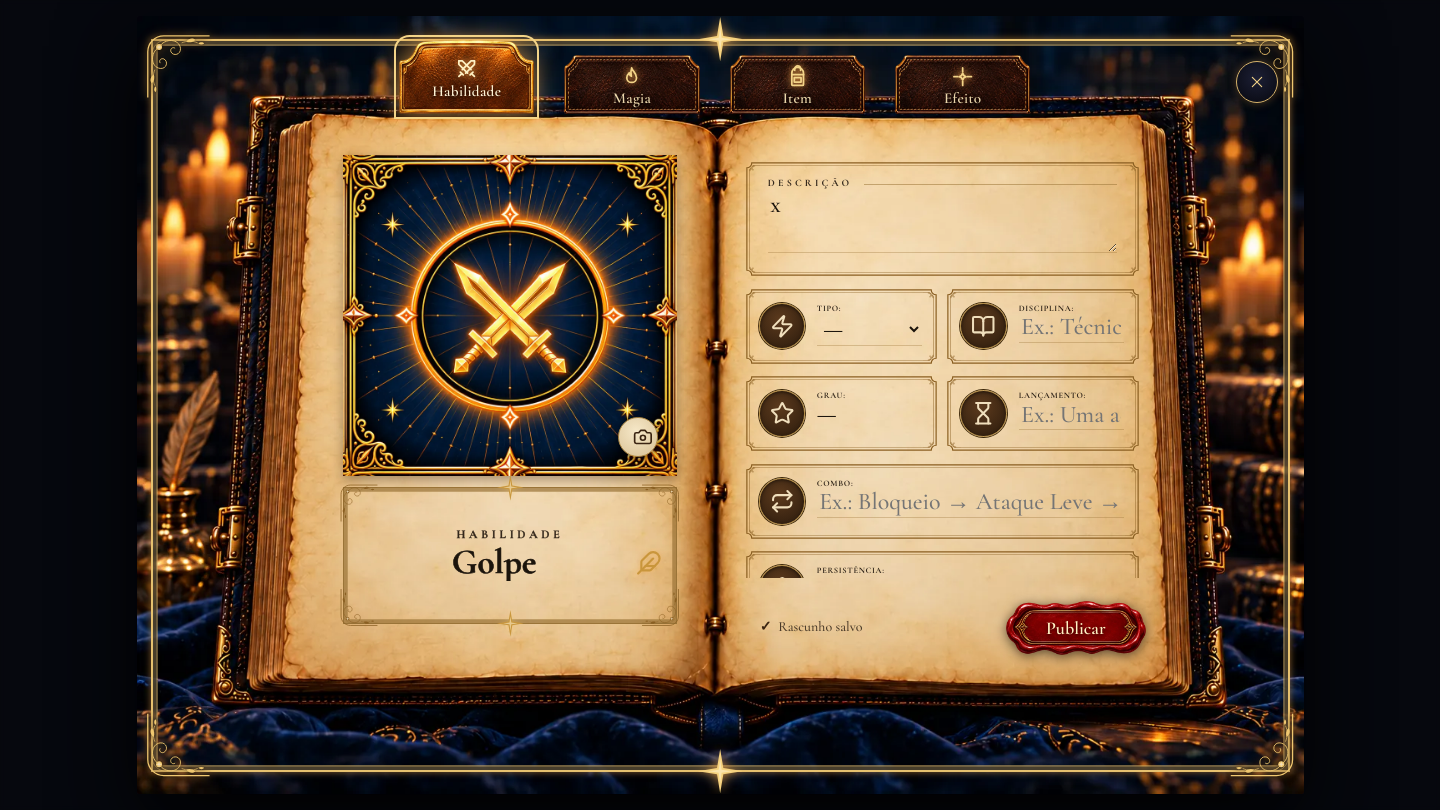
it: CardEditor — salvamento, validação e publicação › conflito com outra edição: para de salvar e oferece recarregar
Replace the text in the field named "Título" with "Outro". click: (494, 563)
box: [358,544,630,582]
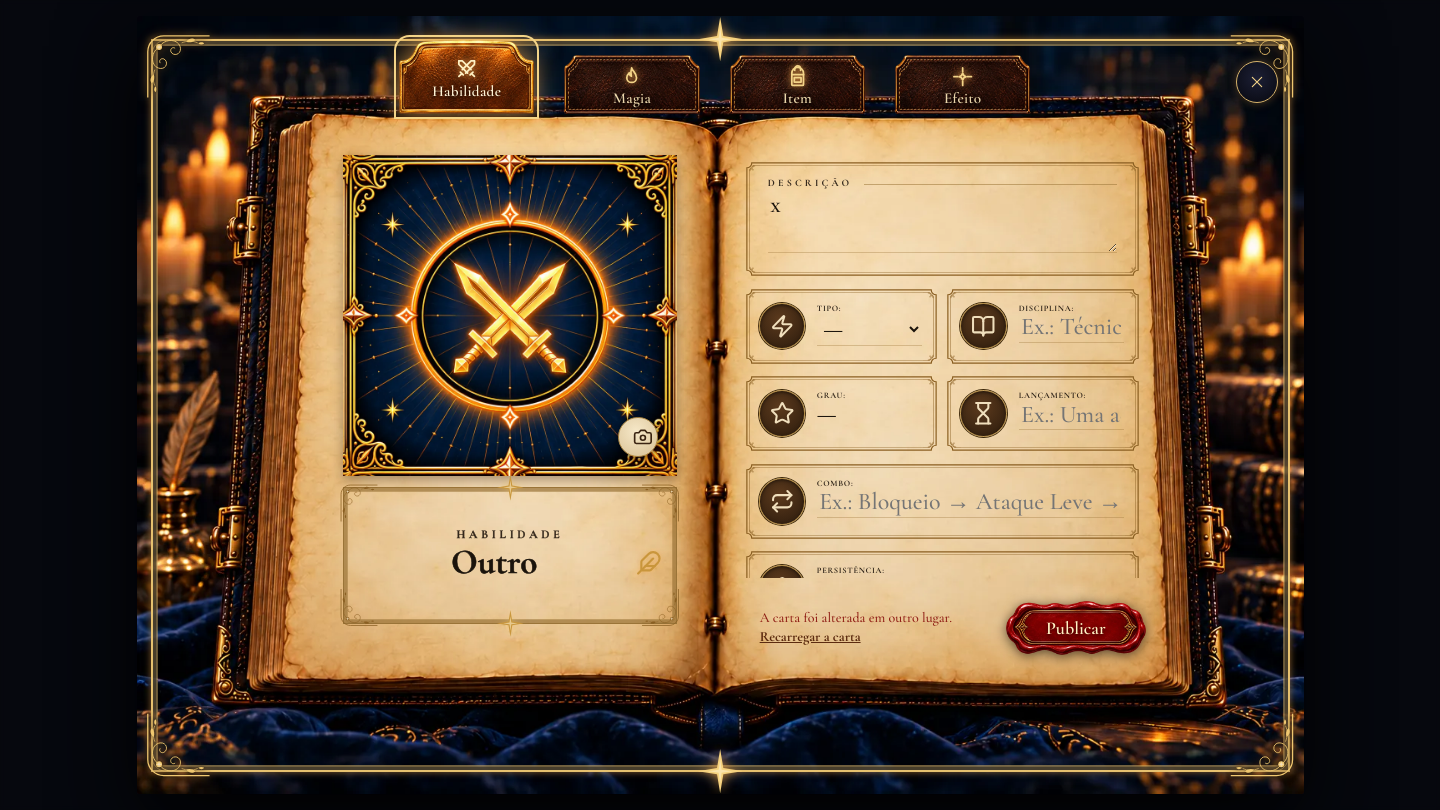
expect the text "A carta foi alterada em outro lugar. Recarregar a carta" is shown: met, box [760,609,952,647]
Replace the text in the field named "Título" with "Mais um". click: (494, 563)
box: [358,544,630,582]
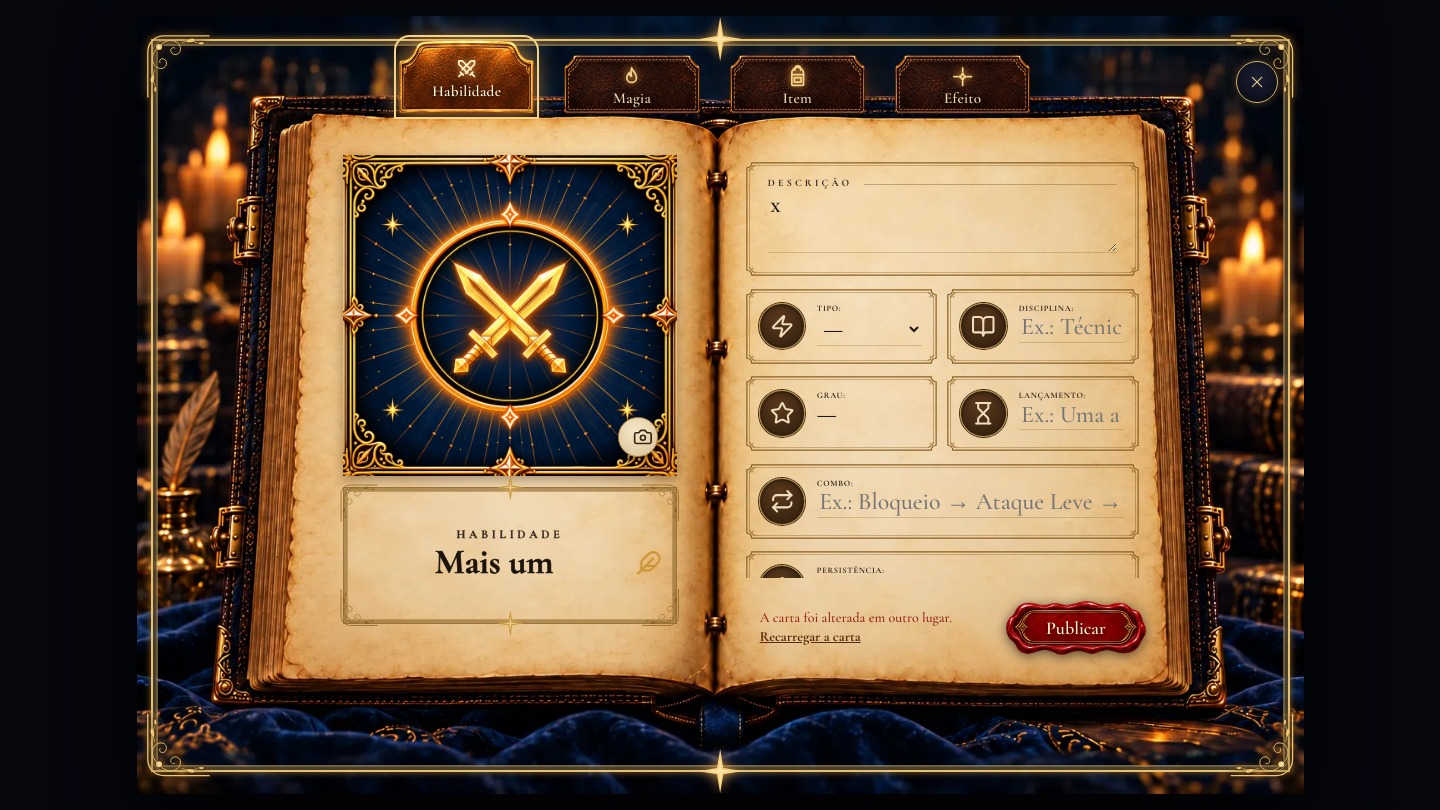
Click the button "Recarregar a carta". click: click(810, 637)
box: [760,628,861,647]
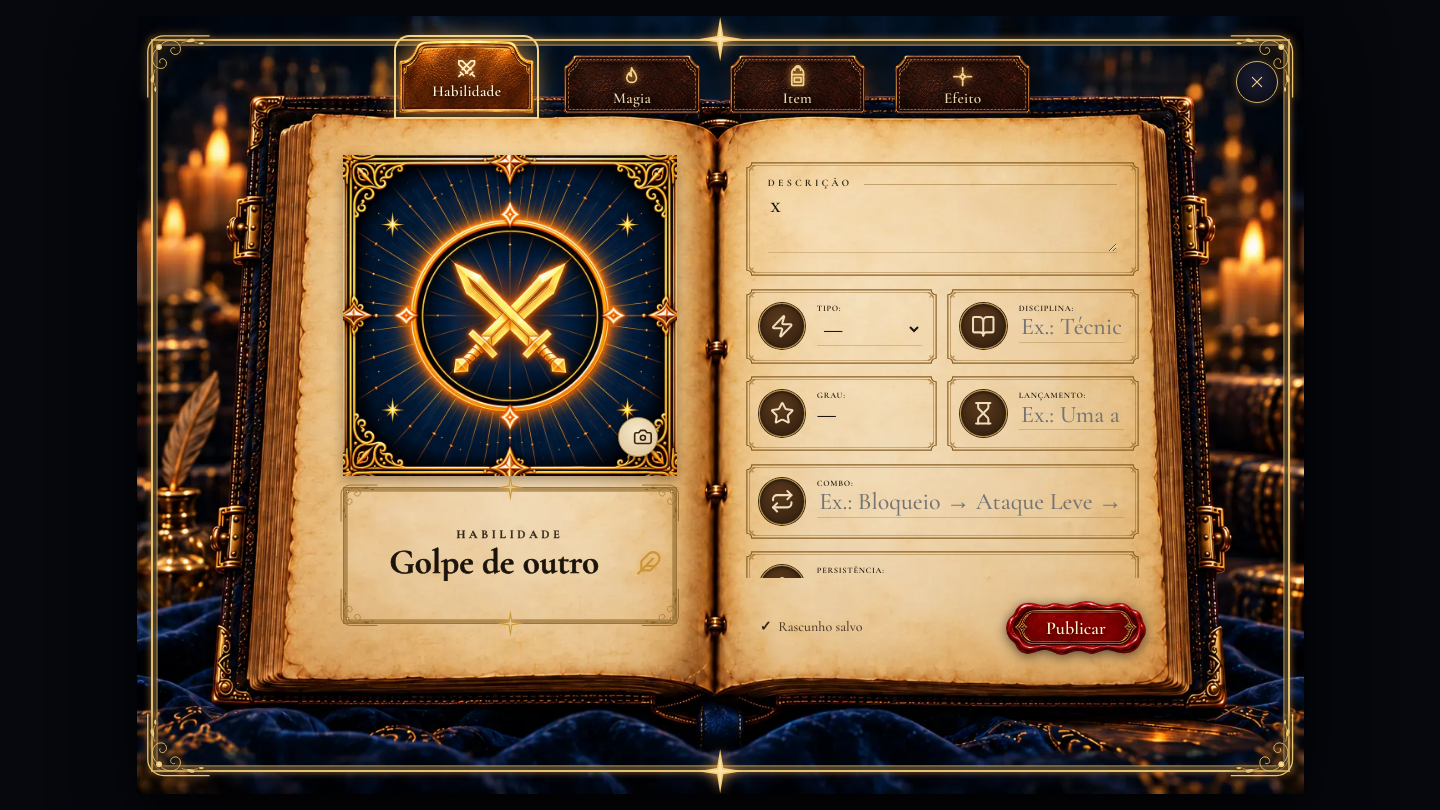
expect the field named "Título" holds "Golpe de outro": met, box [358,544,630,582]
